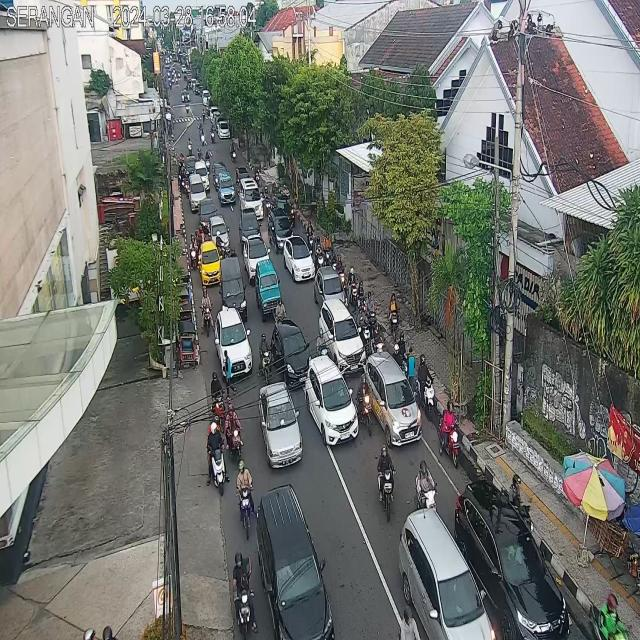car: (453, 478, 570, 640), (397, 506, 496, 640), (256, 480, 335, 640), (362, 352, 422, 446), (306, 352, 361, 447), (316, 296, 369, 372), (259, 385, 304, 471), (217, 310, 253, 384), (276, 318, 313, 380), (219, 256, 248, 323), (254, 260, 282, 322), (280, 236, 316, 282), (243, 234, 271, 285), (267, 207, 293, 255), (239, 178, 264, 222), (198, 240, 222, 285), (239, 206, 261, 254), (209, 214, 231, 255), (198, 198, 217, 235), (188, 174, 206, 212), (218, 172, 235, 206), (195, 161, 210, 193), (212, 161, 226, 191), (235, 167, 249, 193), (220, 187, 236, 204), (185, 156, 196, 174)
motorcycle: (230, 548, 258, 640), (502, 469, 534, 536), (202, 423, 229, 495), (235, 458, 258, 542), (377, 444, 396, 524), (439, 399, 459, 470), (413, 459, 439, 513), (224, 397, 244, 467), (415, 353, 435, 423), (355, 374, 373, 438), (210, 371, 225, 432), (200, 284, 216, 338), (354, 299, 370, 353), (257, 332, 272, 383), (365, 289, 377, 338), (346, 266, 358, 310), (334, 256, 346, 294), (371, 321, 383, 354), (215, 231, 229, 259), (314, 235, 324, 273), (322, 232, 332, 266), (306, 220, 315, 255), (189, 232, 197, 271), (273, 298, 287, 320), (358, 280, 367, 311), (264, 185, 271, 220), (328, 244, 337, 270), (271, 179, 278, 210), (229, 141, 238, 165), (253, 165, 262, 188), (205, 149, 211, 173)
